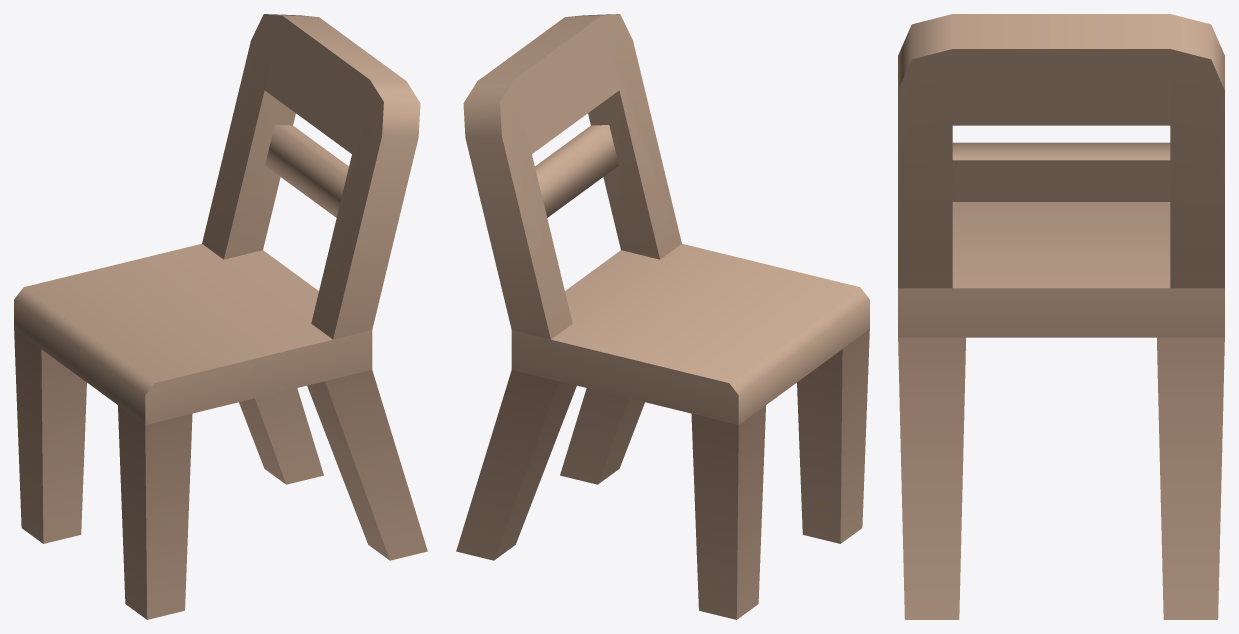
The model's file is wooden-chair-slant.glb.
3 views of the same model, side by side, from view 1: azimuth 30°, elevation 25°; view 2: azimuth 150°, elevation 25°; view 3: azimuth 270°, elevation 25° (orthographic). The views are drawn at different scales.
Parts seen in each view (by area): view 1: wooden-chair-slant; view 2: wooden-chair-slant; view 3: wooden-chair-slant.
Part boxes in pixels (bbox=[...]): wooden-chair-slant: bbox=[14, 14, 427, 619]; wooden-chair-slant: bbox=[456, 14, 869, 619]; wooden-chair-slant: bbox=[898, 14, 1224, 619].
Bounding box in the file's own units: 0.4525 × 0.7077 × 0.36.
